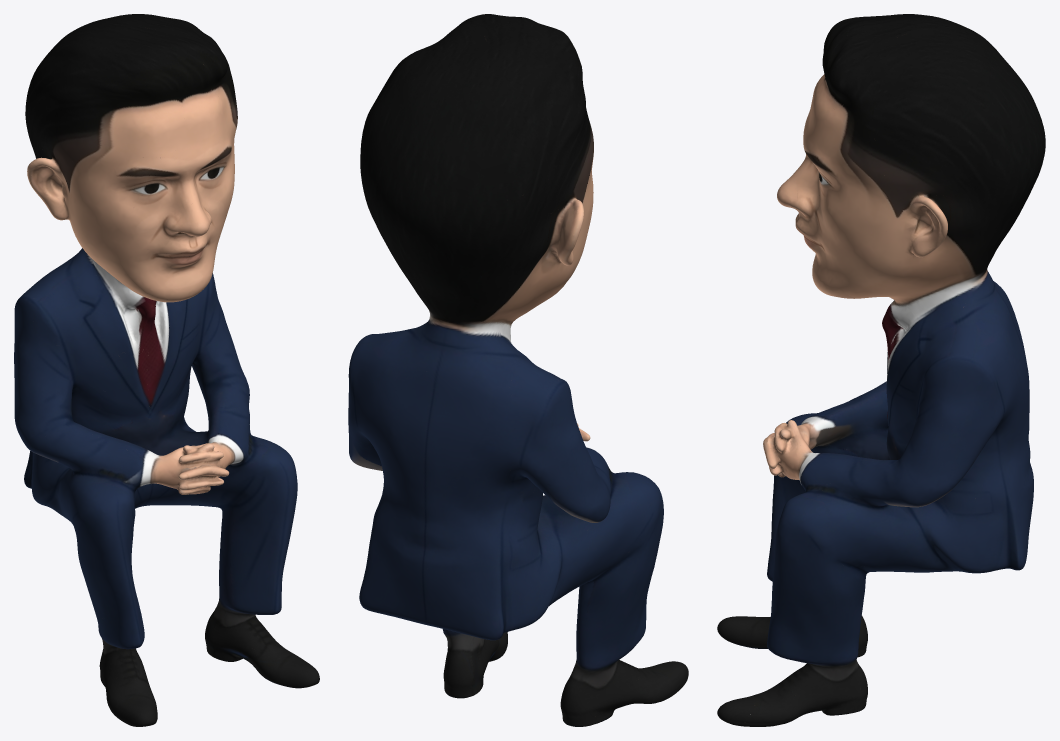
Rendered from tedy.glb.
The picture shows the model from 3 angles, left to right: view 1: azimuth 30°, elevation 25°; view 2: azimuth 150°, elevation 25°; view 3: azimuth 270°, elevation 25°; orthographic projection. The views are drawn at different scales.
Size of the model in its own units: 0.7082 by 1.9 by 0.8692.
Materials: 1 (1 with a texture image).
